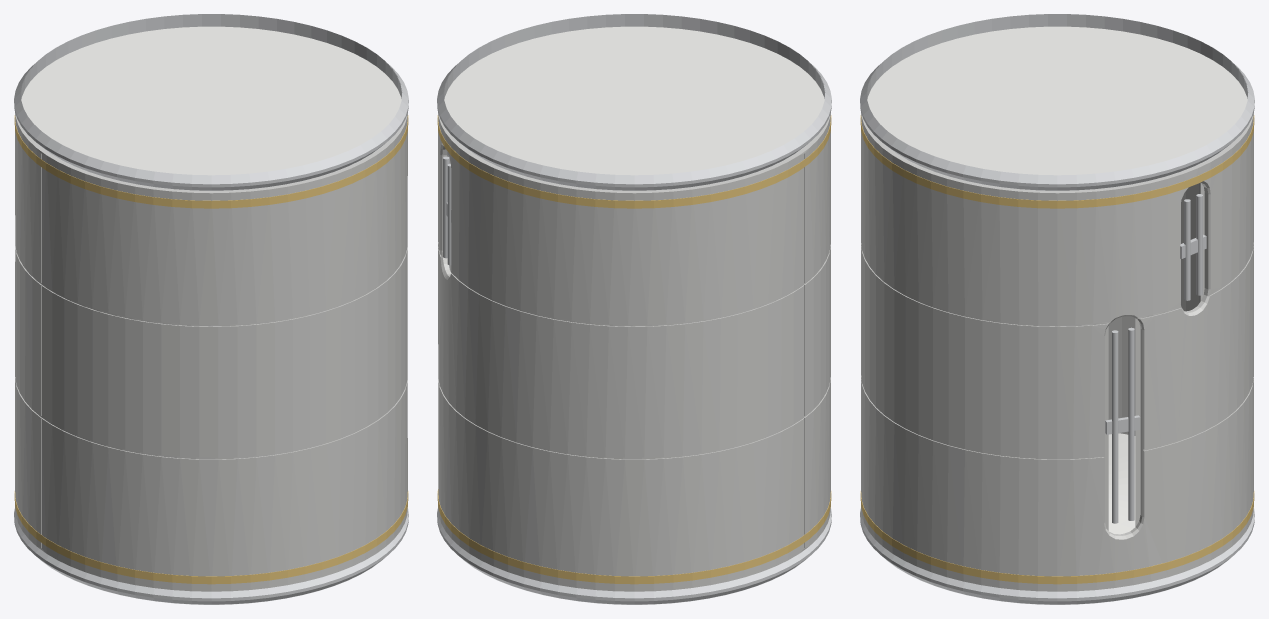
File: ax_tank_05_hydrolox_l_short.glb
The picture shows the model from 3 angles, left to right: view 1: azimuth 30°, elevation 25°; view 2: azimuth 150°, elevation 25°; view 3: azimuth 270°, elevation 25°; orthographic projection.
Visible parts, largest first — view 1: mli_blanket, dome_caps, end_rings, blanket_bands; view 2: mli_blanket, dome_caps, end_rings, blanket_bands, raceway_lines; view 3: mli_blanket, dome_caps, end_rings, blanket_bands, raceway_lines.
Part boxes in pixels (box(x1,y1,x2,y2)): mli_blanket: box(15, 112, 407, 591); dome_caps: box(21, 26, 401, 175); end_rings: box(14, 14, 408, 604); blanket_bands: box(14, 115, 408, 584); mli_blanket: box(438, 112, 830, 591); dome_caps: box(444, 26, 824, 175); end_rings: box(437, 14, 831, 604); blanket_bands: box(437, 115, 831, 584); raceway_lines: box(443, 156, 451, 267); mli_blanket: box(861, 112, 1253, 591); dome_caps: box(867, 26, 1247, 534); end_rings: box(860, 14, 1254, 604); blanket_bands: box(860, 115, 1254, 584); raceway_lines: box(1105, 194, 1206, 523).
Bounding box in the file's own units: 3.75 × 4.5 × 3.75.
